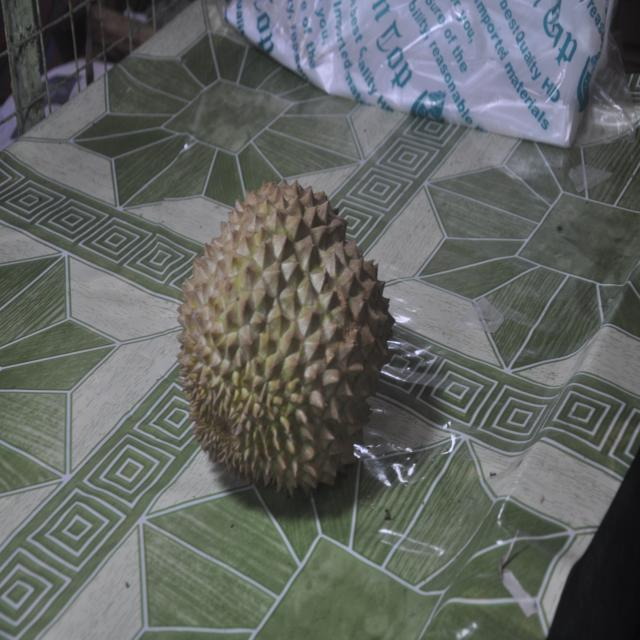mature: (179, 180, 394, 501)
